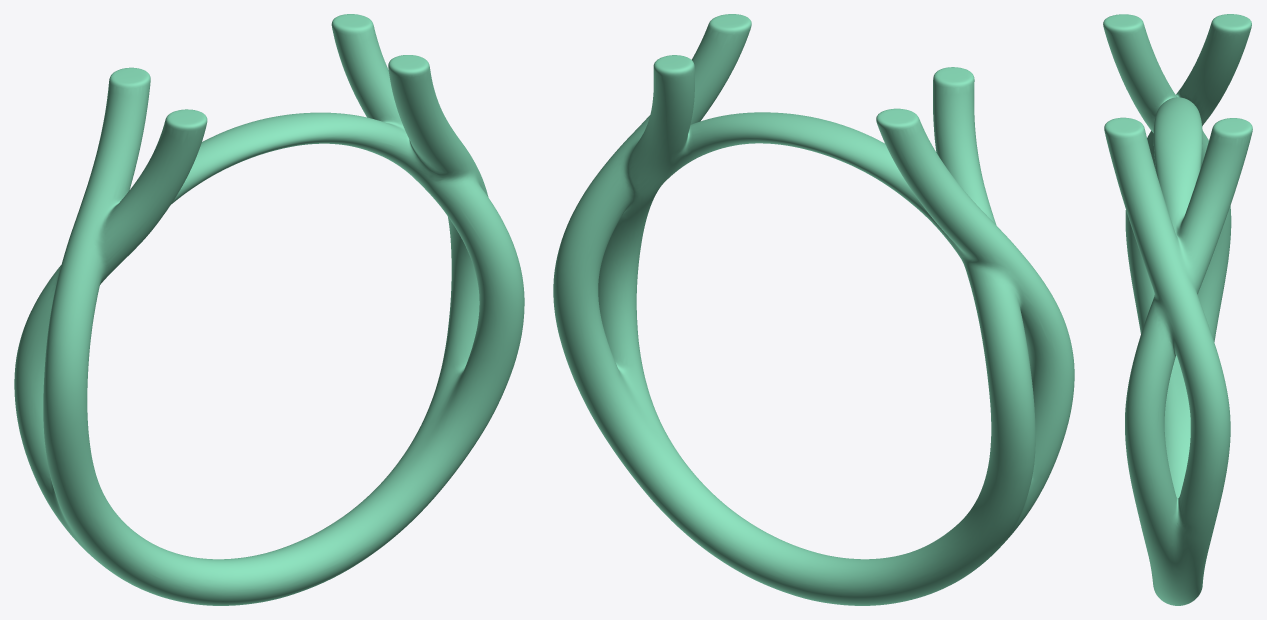
3 views of the same model, side by side, from view 1: azimuth 30°, elevation 25°; view 2: azimuth 150°, elevation 25°; view 3: azimuth 270°, elevation 25° (orthographic). The views are drawn at different scales.
Parts seen in each view (by area): view 1: Metal02; view 2: Metal02; view 3: Metal02.
Boxes of the visible parts, x1,y1,x2,y2 form: Metal02: (14,14,524,605); Metal02: (553,14,1074,605); Metal02: (1103,14,1252,605).
Bounding box in the file's own units: 21.31 × 22.38 × 5.96.
